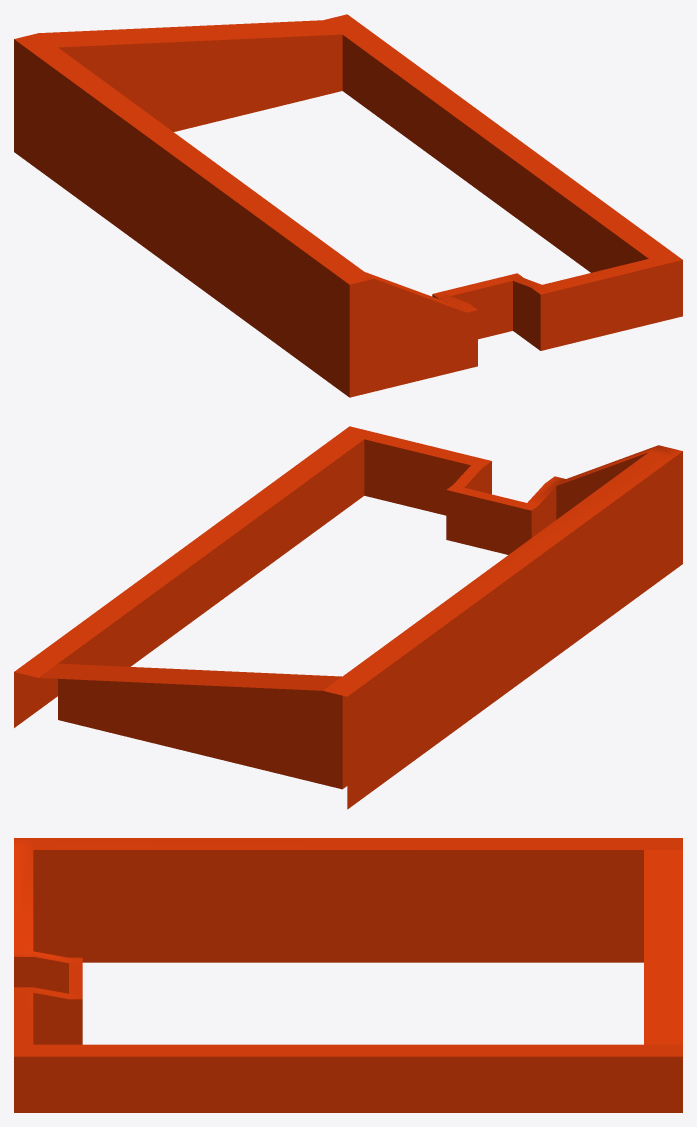
The model's file is Terreno baldio.fbx.
3 views of the same model, one above another, from view 1: azimuth 30°, elevation 25°; view 2: azimuth 150°, elevation 25°; view 3: azimuth 270°, elevation 25° (orthographic).
Visible parts, largest first — view 1: pCube218; view 2: pCube218; view 3: pCube218.
Boxes of the visible parts, left/top/right/bottom form: pCube218: left=14, top=14, right=682, bottom=397; pCube218: left=14, top=426, right=682, bottom=809; pCube218: left=14, top=838, right=682, bottom=1112.
Bounding box in the file's own units: 1488 × 482 × 2595.
